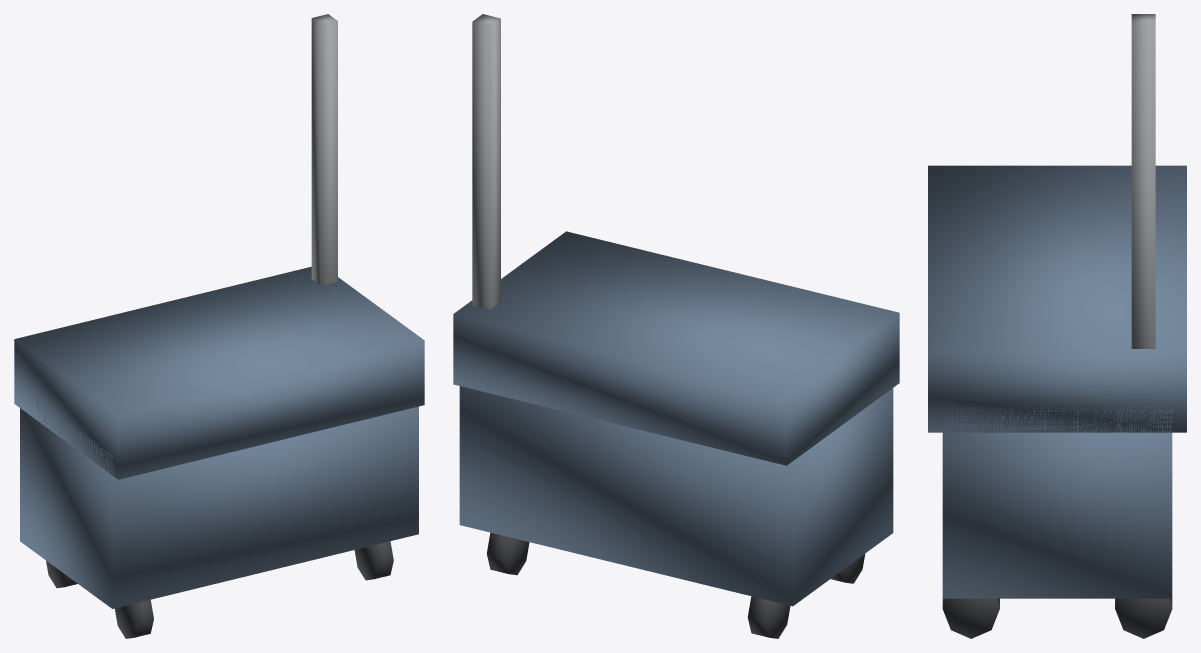
File: housekeeping_cart__tall.glb
3 views of the same model, side by side, from view 1: azimuth 30°, elevation 25°; view 2: azimuth 150°, elevation 25°; view 3: azimuth 270°, elevation 25° (orthographic). The views are drawn at different scales.
Visible parts, largest first — view 1: world; view 2: world; view 3: world.
Boxes of the visible parts, x1,y1,x2,y2 form: world: [14, 14, 424, 638]; world: [453, 14, 899, 638]; world: [928, 14, 1186, 638].
Size of the model in its own units: 0.92 by 1.44 by 0.54.
